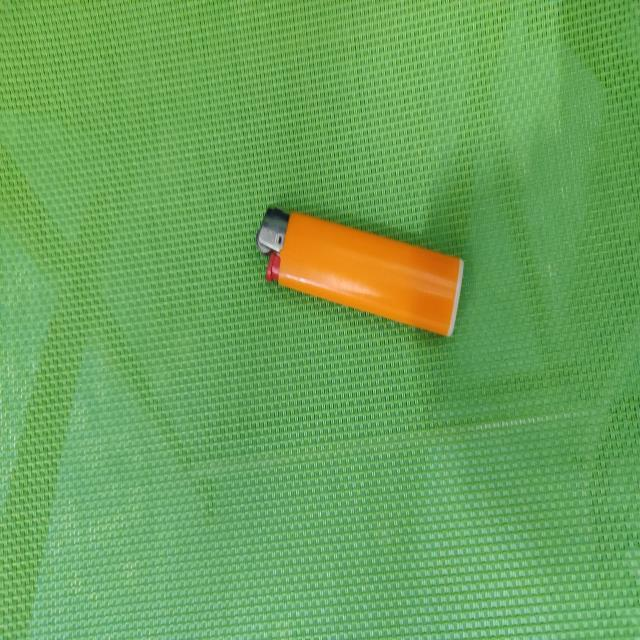lighter: (256, 208, 462, 335)
